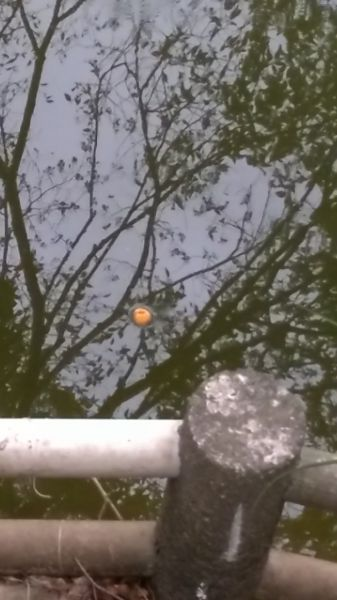eggs: (128, 304, 156, 329)
